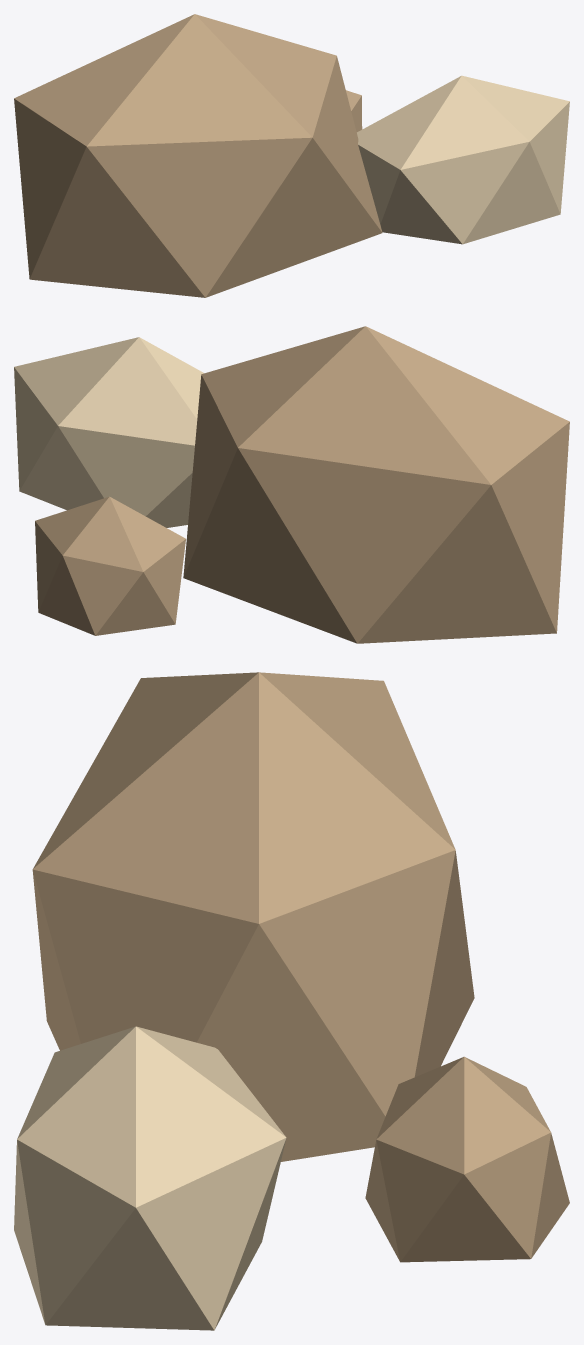
Rendered from SM_RockCluster.fbx.
3 views of the same model, one above another, from view 1: azimuth 30°, elevation 25°; view 2: azimuth 150°, elevation 25°; view 3: azimuth 270°, elevation 25° (orthographic). The views are drawn at different scales.
Parts seen in each view (by area): view 1: SM_RockCluster; view 2: SM_RockCluster; view 3: SM_RockCluster.
Boxes of the visible parts, x1,y1,x2,y2 form: SM_RockCluster: [14, 14, 569, 297]; SM_RockCluster: [14, 326, 569, 643]; SM_RockCluster: [14, 672, 569, 1330].
Bounding box in the file's own units: 1.96 × 1.08 × 0.9115.
